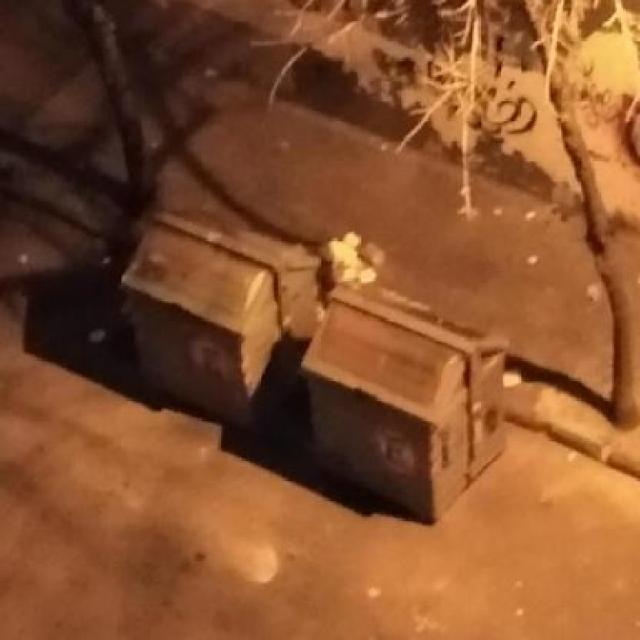garbage: (312, 223, 394, 312)
